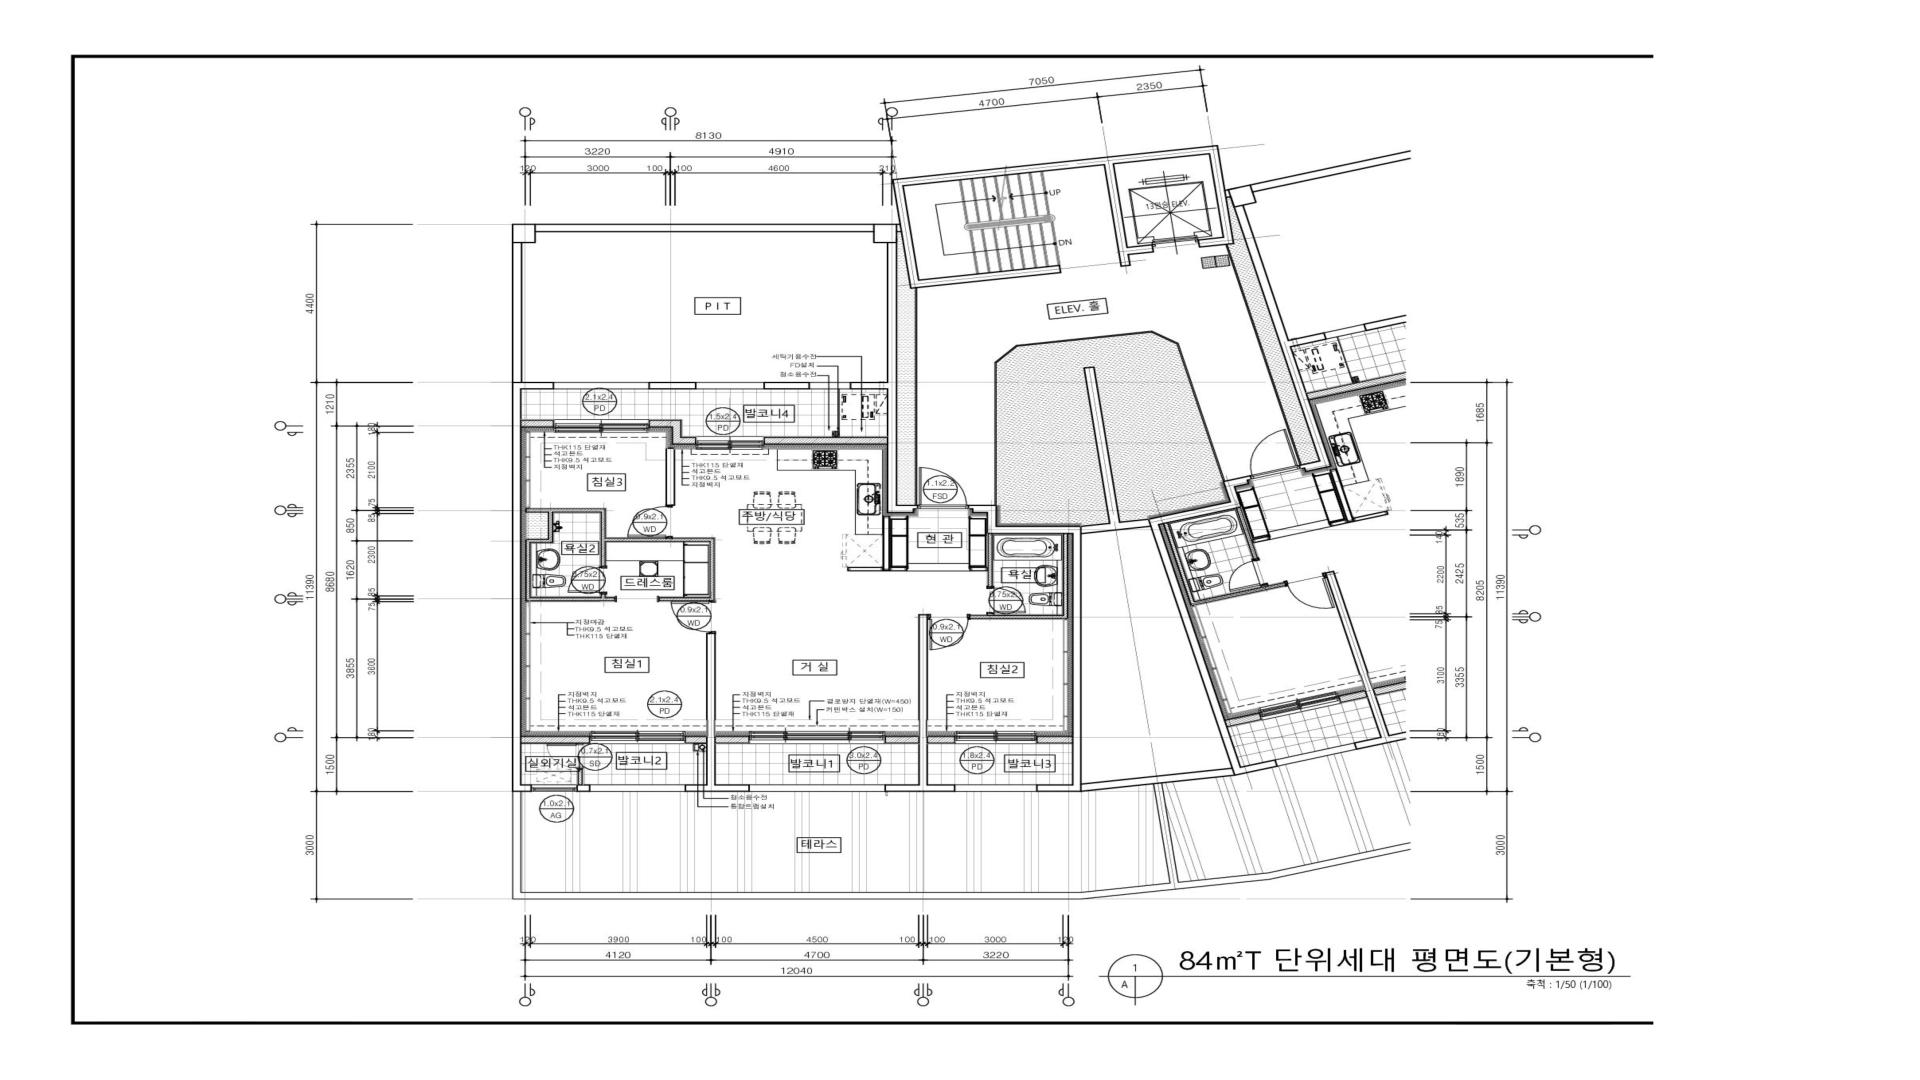door: (918, 467, 968, 509), (927, 613, 971, 650), (671, 600, 717, 633), (628, 505, 673, 538), (568, 566, 608, 595), (986, 587, 1026, 616)
wall: (893, 145, 1234, 289), (994, 331, 1226, 505), (968, 505, 1081, 793), (1147, 476, 1253, 775), (1233, 206, 1332, 472), (849, 243, 918, 513), (525, 509, 715, 601), (512, 382, 554, 793), (1225, 245, 1302, 465), (885, 615, 955, 791), (1081, 367, 1150, 534), (684, 633, 750, 791), (971, 534, 1068, 618), (1081, 767, 1234, 793), (847, 516, 906, 571), (535, 224, 873, 232), (512, 243, 522, 382), (649, 421, 696, 444), (764, 436, 887, 444), (1228, 185, 1257, 207), (521, 736, 591, 744), (666, 448, 675, 505), (873, 224, 897, 243), (512, 224, 535, 243), (647, 382, 696, 389), (764, 382, 810, 389), (915, 287, 916, 505), (1036, 736, 1072, 744), (988, 534, 993, 587), (715, 736, 749, 744), (521, 419, 554, 427), (885, 736, 918, 744), (928, 736, 955, 744), (686, 736, 707, 744), (576, 785, 591, 793), (578, 769, 583, 785), (969, 567, 988, 571), (1225, 189, 1230, 198), (897, 224, 901, 232)
window: (749, 731, 885, 744), (554, 419, 649, 433), (591, 731, 686, 744), (955, 731, 1036, 744), (696, 436, 764, 450), (750, 785, 885, 791), (554, 382, 649, 389), (591, 785, 684, 791), (955, 785, 1036, 791), (696, 382, 764, 389), (531, 785, 576, 791), (810, 382, 849, 389)
